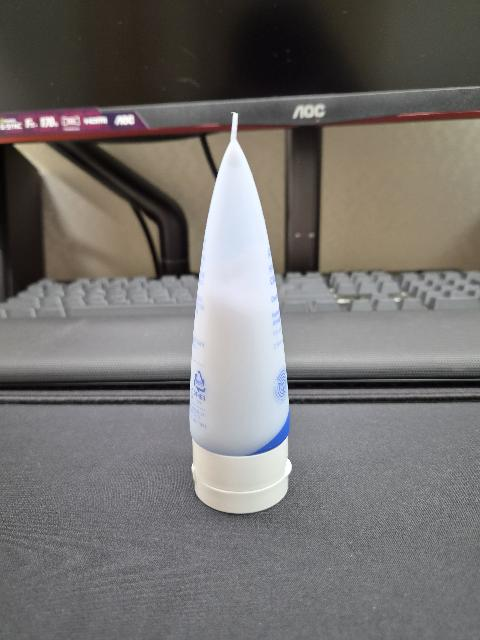handcream: (189, 112, 292, 514)
